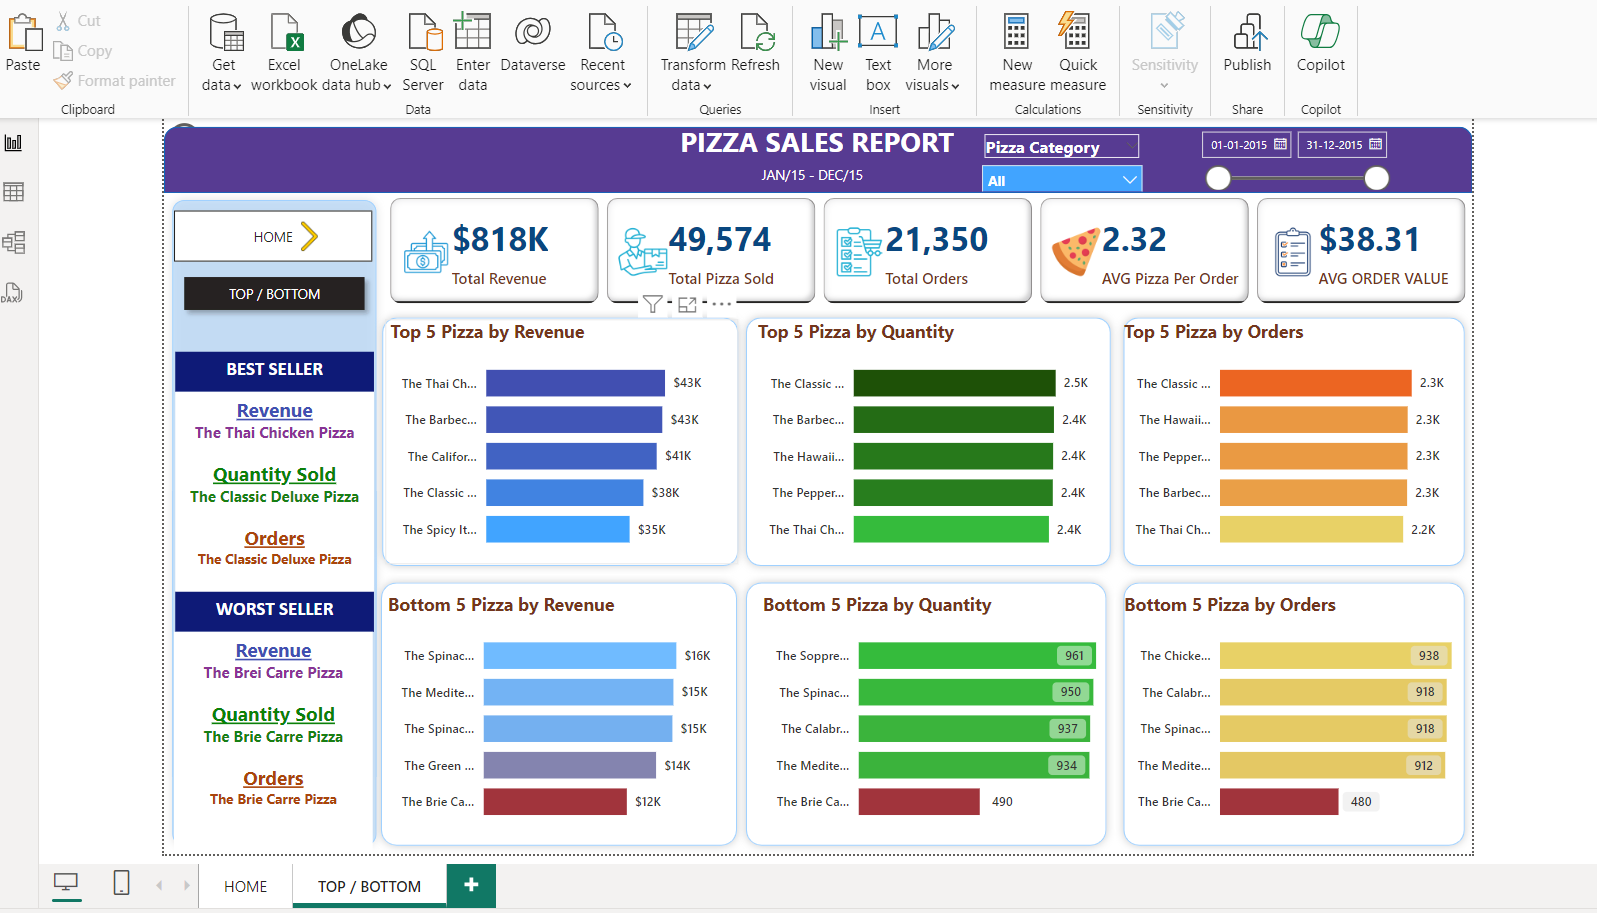

The page's visual inventory and layout, read from the dashboard file:
{"tool":"powerbi","page":{"name":"TOP / BOTTOM","canvas":[1280,720],"ordinal":1},"visuals":[{"type":"shape","box":[0,72,216,648],"z":0},{"type":"actionButton","box":[0,0,100,40],"z":1000},{"type":"cardVisual","fields":{"Data":["pizza_sales.Total Revenue","pizza_sales.Total Pizza Sold","pizza_sales.Total Orders","pizza_sales.AVG Pizza Per Order","pizza_sales.AVG ORDER VALUE"]},"box":[216,73.4,1064.2,113.8],"z":2000},{"type":"shape","box":[0,8.3,1280,65],"z":3000},{"type":"textbox","box":[499.7,0,301,47.5],"z":4000},{"type":"textbox","box":[580,41.4,118.6,30],"z":5000},{"type":"shape","box":[205.9,187.2,364.3,259.2],"z":6000},{"type":"textbox","box":[11.5,229,194.4,38.9],"z":7000},{"type":"textbox","box":[11.5,267.8,194.4,195.8],"z":8000},{"type":"textbox","box":[11.5,463.7,194.4,38.9],"z":9000},{"type":"textbox","box":[10.1,502.6,194.4,217.4],"z":10000},{"type":"slicer","fields":{"Values":["pizza_sales.pizza_category"]},"box":[790.6,11.5,177.1,60.5],"z":11000},{"type":"slicer","fields":{"Values":["pizza_sales.order_date"]},"box":[1008,8.6,194.4,61.9],"z":12000},{"type":"shape","box":[930.2,187.2,349.9,259.2],"z":13000},{"type":"shape","box":[561.6,187.2,373,259.2],"z":14000},{"type":"shape","box":[204.5,446.4,364.3,273.6],"z":15000},{"type":"shape","box":[561.6,446.4,368.6,273.6],"z":16000},{"type":"shape","box":[930.2,446.4,349.9,273.6],"z":17000},{"type":"barChart","title":"Top 5 Pizza by Revenue","fields":{"Category":["pizza_sales.pizza_name"],"Y":["pizza_sales.Total Revenue"]},"box":[216,197.3,345.6,239],"z":18000},{"type":"barChart","title":"Bottom 5 Pizza by Revenue","fields":{"Category":["pizza_sales.pizza_name"],"Y":["pizza_sales.Total Revenue"]},"box":[214.6,463.7,345.6,239],"z":19000},{"type":"barChart","title":"Top 5 Pizza by Quantity","fields":{"Category":["pizza_sales.pizza_name"],"Y":["pizza_sales.Total Pizza Sold"]},"box":[576,197.3,345.6,239],"z":20000},{"type":"barChart","title":"Bottom 5 Pizza by Quantity","fields":{"Category":["pizza_sales.pizza_name"],"Y":["pizza_sales.Total Pizza Sold"]},"box":[580.3,463.7,345.6,239],"z":21000},{"type":"barChart","title":"Top 5 Pizza by Orders","fields":{"Category":["pizza_sales.pizza_name"],"Y":["pizza_sales.Total Orders"]},"box":[934.6,197.3,345.6,239],"z":22000},{"type":"barChart","title":"Bottom 5 Pizza by Orders","fields":{"Category":["pizza_sales.pizza_name"],"Y":["pizza_sales.Total Orders"]},"box":[934.6,463.7,345.6,239],"z":23000},{"type":"pageNavigator","box":[10.1,90.7,194.4,50.4],"z":24000},{"type":"pageNavigator","box":[11.5,146.9,194.4,50.4],"z":25000},{"type":"image","box":[122.4,96.5,40.3,38.9],"z":26000}]}

Visuals, with their boxes on the page's 1280x720 design canvas (x1, y1, x2, y2). These are canvas units, not pixel positions in the 1597x913 screenshot, which may show the page scaled, cropped or inside an application window:
shape: select_region(0, 72, 216, 720)
actionButton: select_region(0, 0, 100, 40)
cardVisual - pizza_sales.Total Revenue x pizza_sales.Total Pizza Sold: select_region(216, 73, 1280, 187)
shape: select_region(0, 8, 1280, 73)
textbox: select_region(500, 0, 801, 48)
textbox: select_region(580, 41, 699, 71)
shape: select_region(206, 187, 570, 446)
textbox: select_region(12, 229, 206, 268)
textbox: select_region(12, 268, 206, 464)
textbox: select_region(12, 464, 206, 503)
textbox: select_region(10, 503, 204, 720)
slicer - pizza_sales.pizza_category: select_region(791, 12, 968, 72)
slicer - pizza_sales.order_date: select_region(1008, 9, 1202, 70)
shape: select_region(930, 187, 1280, 446)
shape: select_region(562, 187, 935, 446)
shape: select_region(204, 446, 569, 720)
shape: select_region(562, 446, 930, 720)
shape: select_region(930, 446, 1280, 720)
"Top 5 Pizza by Revenue" barChart: select_region(216, 197, 562, 436)
"Bottom 5 Pizza by Revenue" barChart: select_region(215, 464, 560, 703)
"Top 5 Pizza by Quantity" barChart: select_region(576, 197, 922, 436)
"Bottom 5 Pizza by Quantity" barChart: select_region(580, 464, 926, 703)
"Top 5 Pizza by Orders" barChart: select_region(935, 197, 1280, 436)
"Bottom 5 Pizza by Orders" barChart: select_region(935, 464, 1280, 703)
pageNavigator: select_region(10, 91, 204, 141)
pageNavigator: select_region(12, 147, 206, 197)
image: select_region(122, 96, 163, 135)
